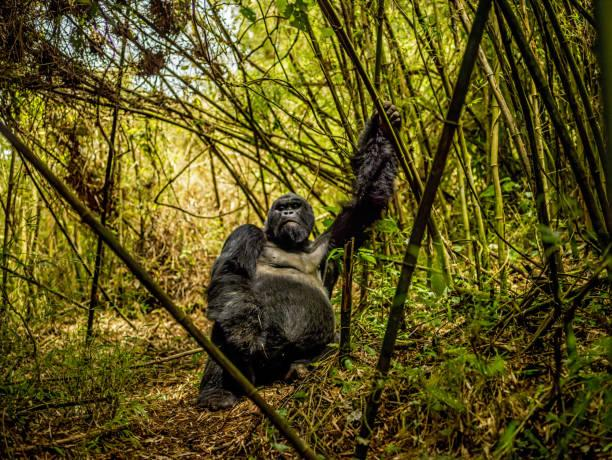goriile_montagne: (207, 197, 347, 404)
